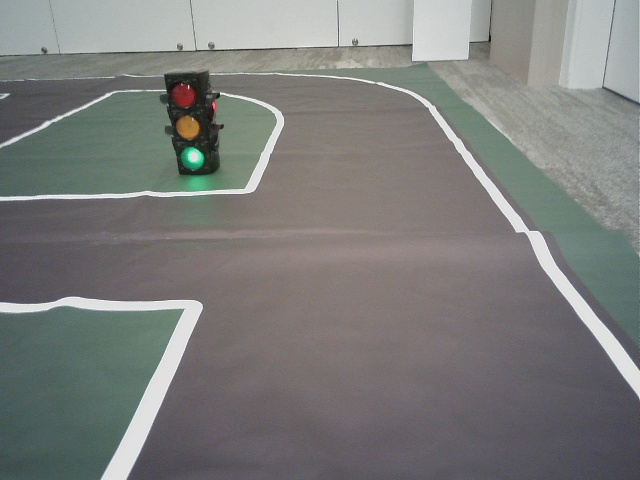green: (170, 76, 208, 169)
